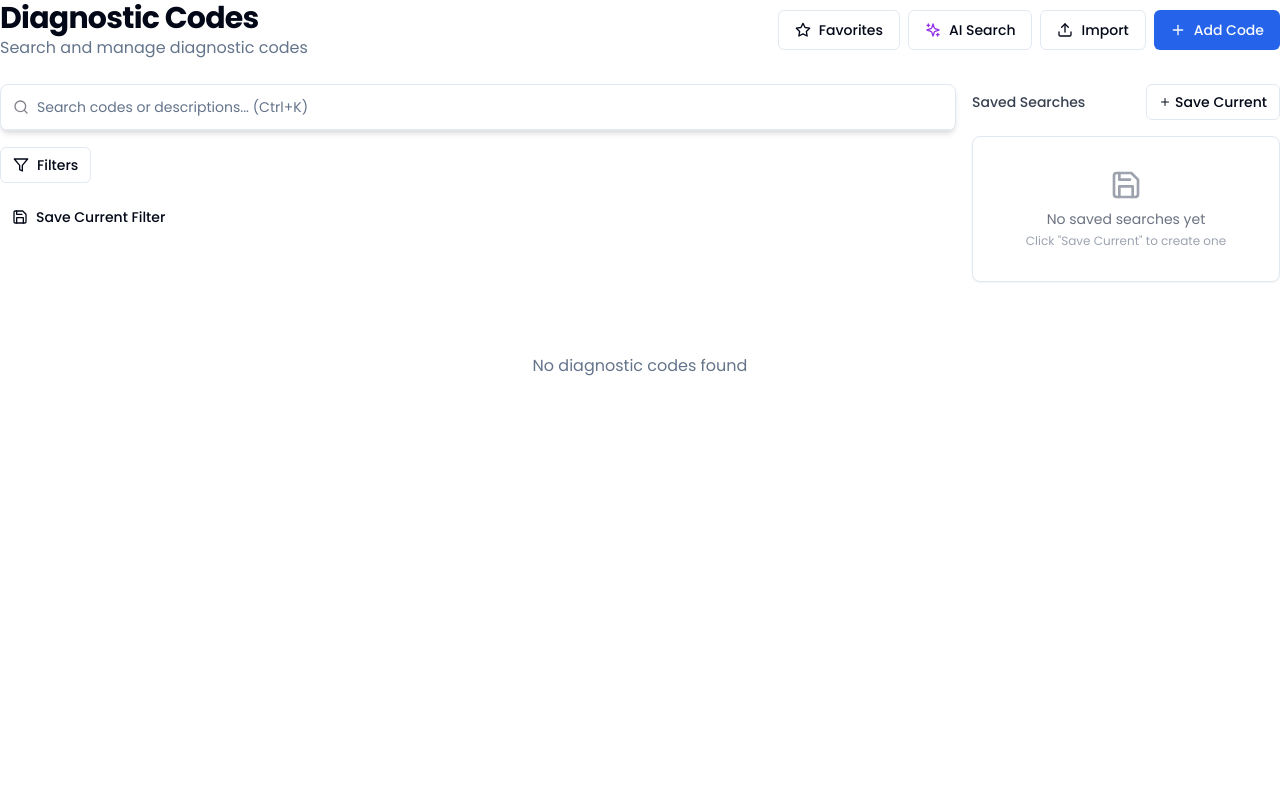
Test: HomePage › opens ImportModal when Import button is clicked
This screenshot has width=1280, height=800.
Click the button "Import" at [1093, 30], box 1040,10 -> 1146,50
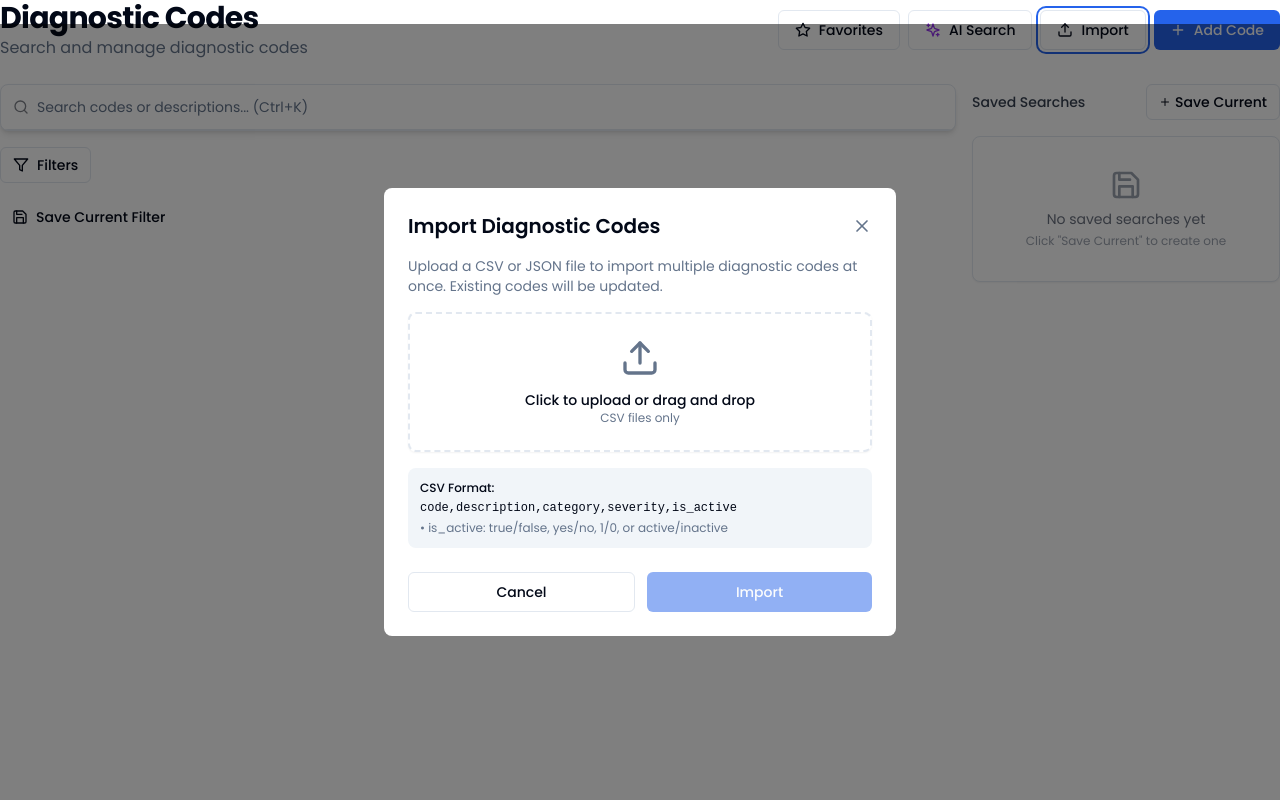
Expected: the heading "Import Diagnostic Codes" is shown, 408,212 -> 660,240
